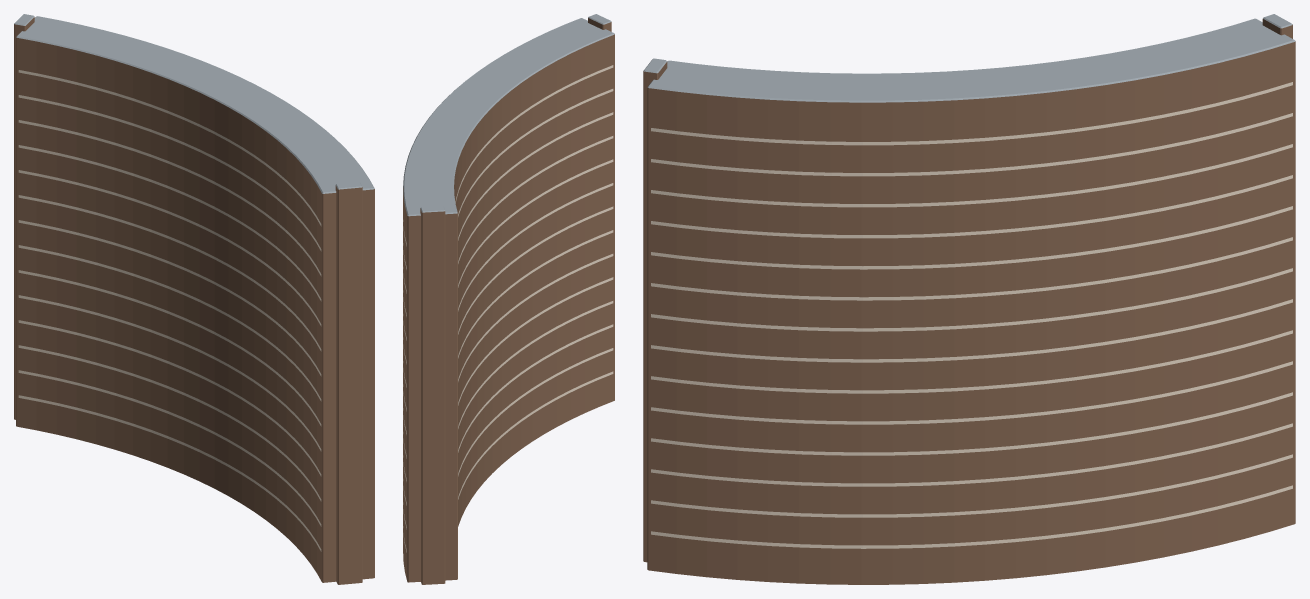
The picture shows the model from 3 angles, left to right: view 1: azimuth 30°, elevation 25°; view 2: azimuth 150°, elevation 25°; view 3: azimuth 270°, elevation 25°; orthographic projection. The views are drawn at different scales.
Parts seen in each view (by area): view 1: wynn-las-vegas; view 2: wynn-las-vegas; view 3: wynn-las-vegas.
Part boxes in pixels (x1=…): wynn-las-vegas: x1=14, y1=14, x2=374, y2=584; wynn-las-vegas: x1=403, y1=14, x2=614, y2=584; wynn-las-vegas: x1=643, y1=14, x2=1295, y2=584.
Size of the model in its own units: 69.27 by 190 by 229.
